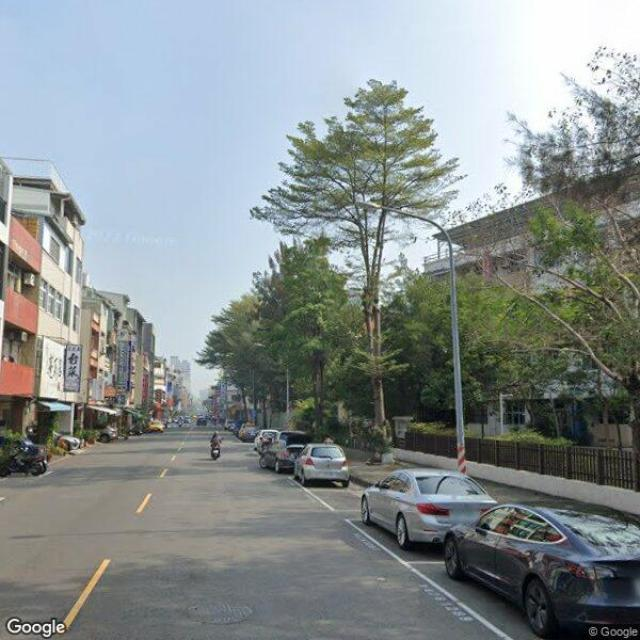Legalparking: (360, 469, 639, 636), (294, 443, 348, 484)
illegalparking: (0, 443, 47, 476), (260, 447, 272, 465), (211, 442, 221, 459), (274, 455, 281, 470)
